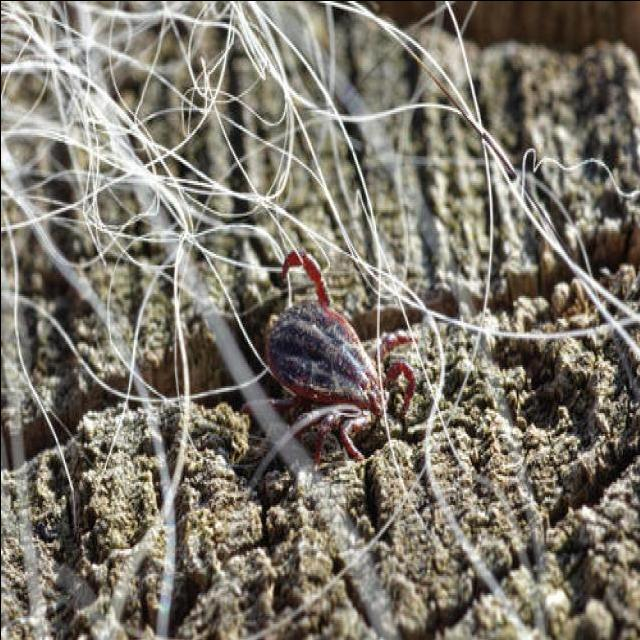Dermacentor Reticulatus-M: (239, 249, 415, 469)
